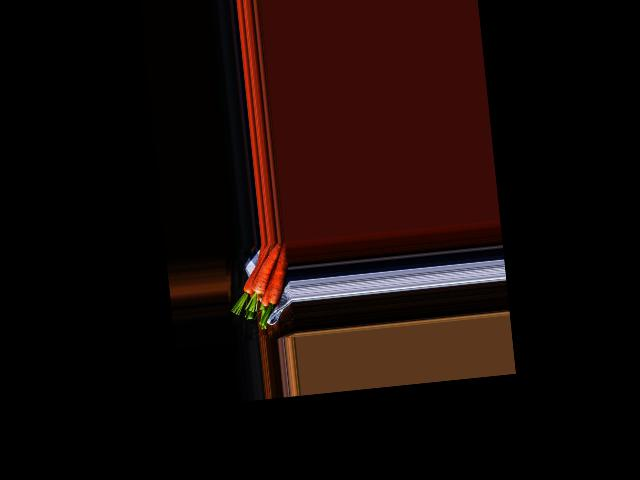carrot: (262, 242, 293, 312)
